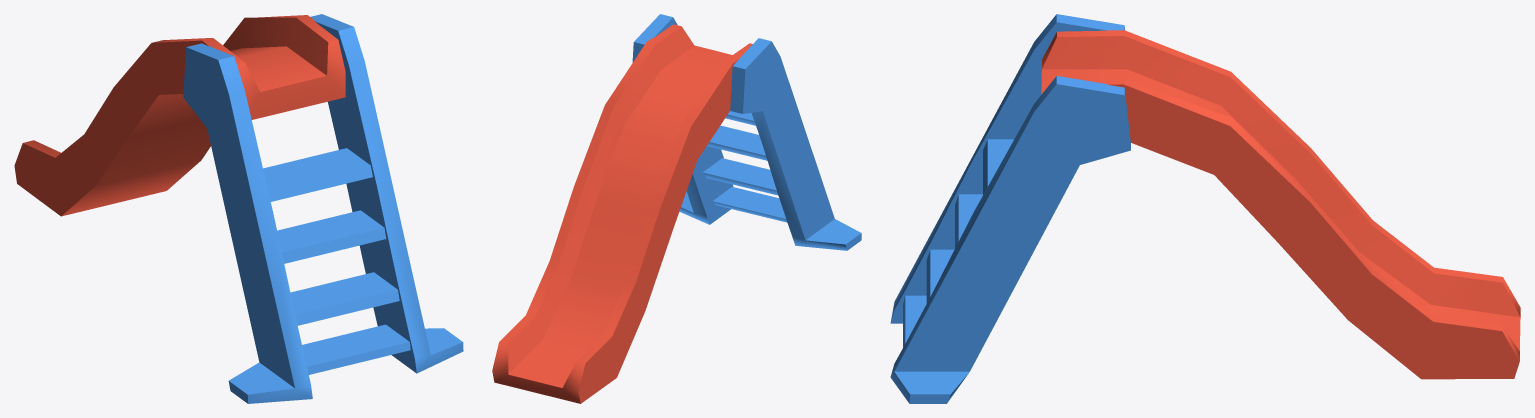
File: SM_Prop_Playground_Slide_01.obj
3 views of the same model, side by side, from view 1: azimuth 30°, elevation 25°; view 2: azimuth 150°, elevation 25°; view 3: azimuth 270°, elevation 25° (orthographic). The views are drawn at different scales.
Visible parts, largest first — view 1: SM_Prop_Playground_Slide_01_Mat_SwatchOverlay_PolygonTown_01_Ins; view 2: SM_Prop_Playground_Slide_01_Mat_SwatchOverlay_PolygonTown_01_Ins; view 3: SM_Prop_Playground_Slide_01_Mat_SwatchOverlay_PolygonTown_01_Ins.
Boxes of the visible parts, <box> form: SM_Prop_Playground_Slide_01_Mat_SwatchOverlay_PolygonTown_01_Ins: <box>14,14,463,403</box>; SM_Prop_Playground_Slide_01_Mat_SwatchOverlay_PolygonTown_01_Ins: <box>492,14,861,403</box>; SM_Prop_Playground_Slide_01_Mat_SwatchOverlay_PolygonTown_01_Ins: <box>890,14,1520,403</box>.
Bounding box in the file's own units: 0.9492 × 1.21 × 2.27.
Materials: 1 (1 with a texture image).
